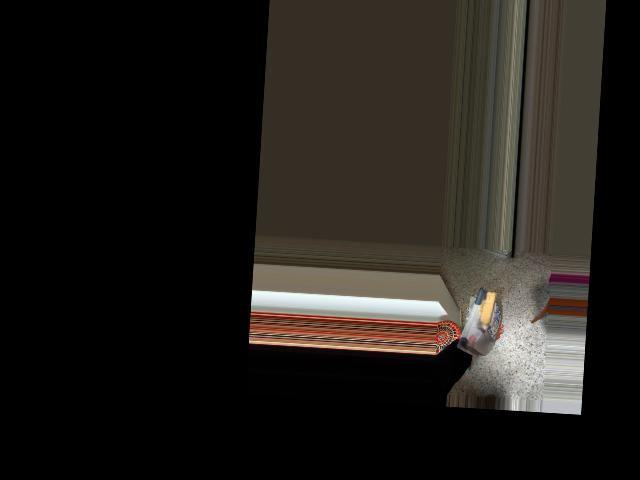cheese: (451, 284, 504, 356)
